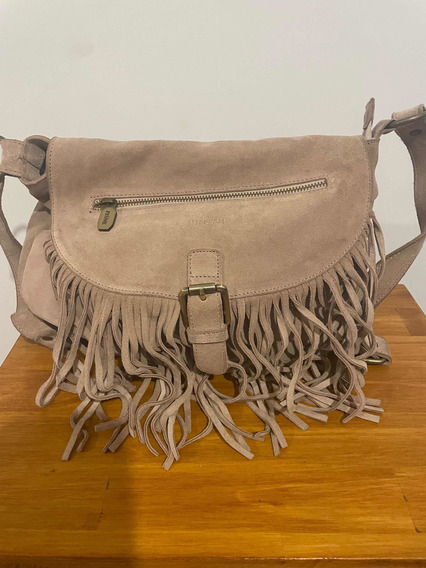cartera: (1, 98, 426, 375)
